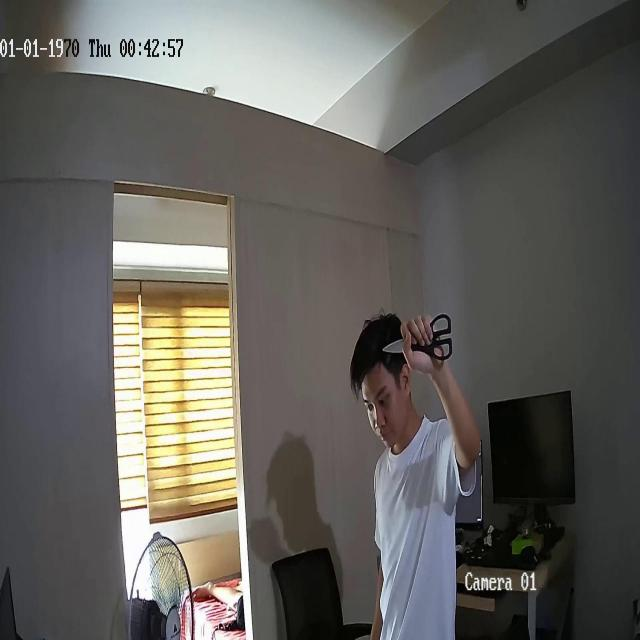scissor: (383, 313, 452, 362)
